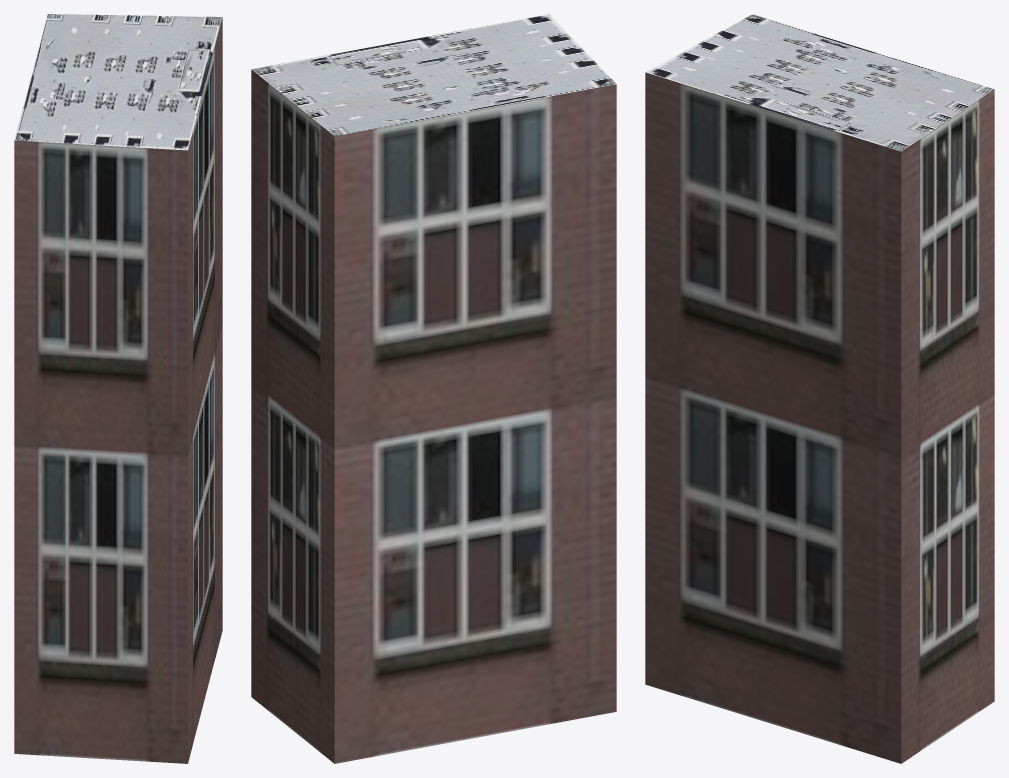
Rendered from ResTex__475.fbx.
3 views of the same model, side by side, from view 1: azimuth 30°, elevation 25°; view 2: azimuth 150°, elevation 25°; view 3: azimuth 270°, elevation 25° (orthographic). The views are drawn at different scales.
Parts seen in each view (by area): view 1: CityEngineMaterial_12_m, CityEngineMaterial_m; view 2: CityEngineMaterial_12_m, CityEngineMaterial_m; view 3: CityEngineMaterial_12_m, CityEngineMaterial_m.
Part boxes in pixels (x1=…): CityEngineMaterial_12_m: x1=14, y1=18, x2=222, y2=763; CityEngineMaterial_m: x1=14, y1=14, x2=222, y2=150; CityEngineMaterial_12_m: x1=251, y1=69, x2=616, y2=763; CityEngineMaterial_m: x1=251, y1=14, x2=616, y2=136; CityEngineMaterial_12_m: x1=645, y1=72, x2=994, y2=763; CityEngineMaterial_m: x1=646, y1=14, x2=994, y2=151.
Bounding box in the file's own units: 2.89 × 6 × 3.1.
Materials: 2 (2 with a texture image).
